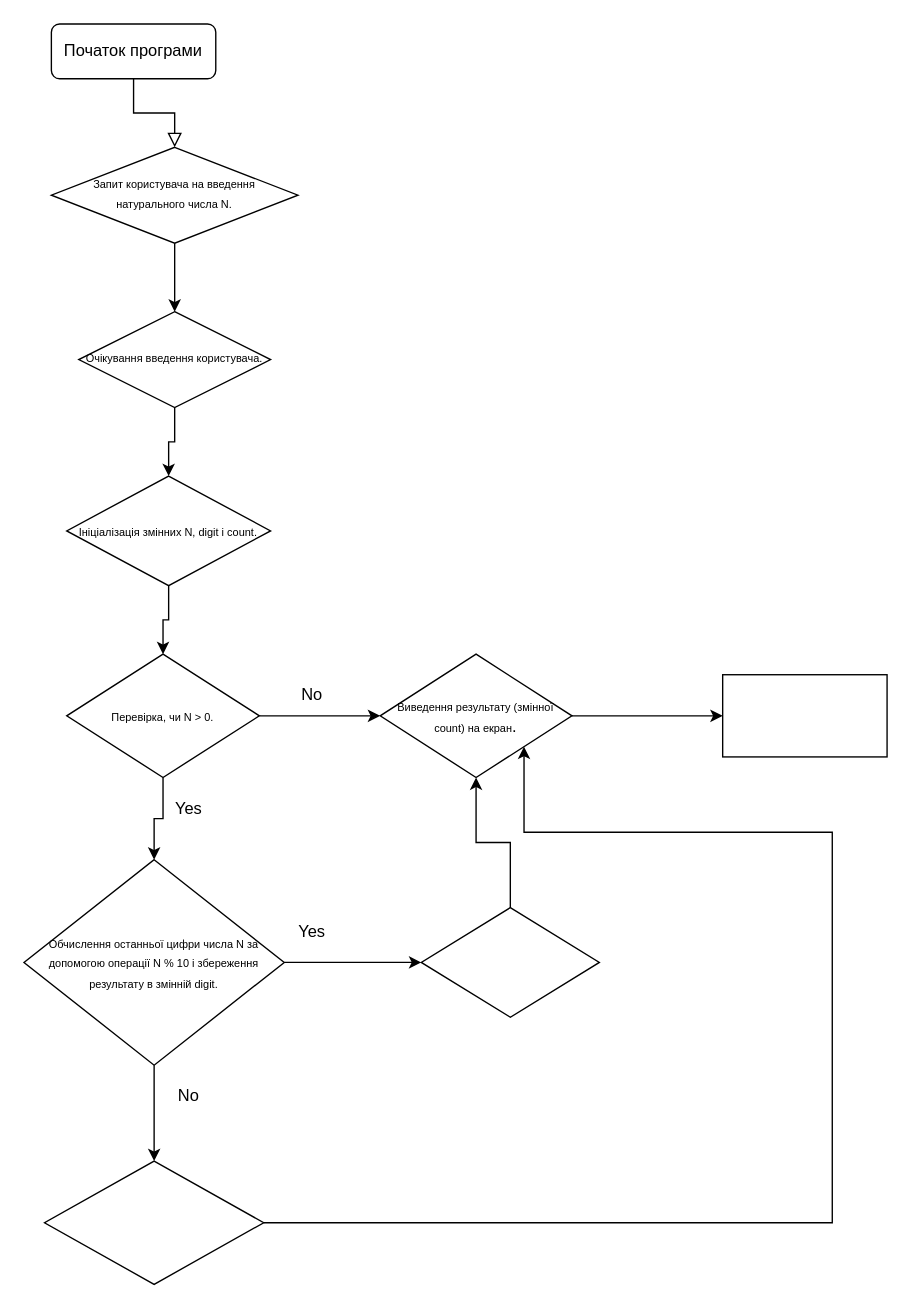
This 911x1308 diagram has some shape labels left out. The centre of each missing label's shape, as x and y in pixels:
"Видалення останньої цифри числа N за допомогою операції N / 10." goes at [153,1222].
"збільшення змінної count на 1." goes at [509,961].
"Кінець програми." goes at [804,715].
